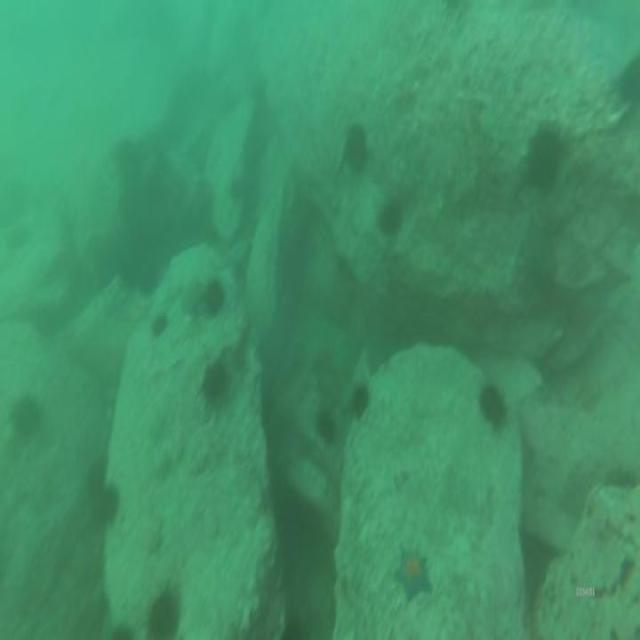echinus: (527, 130, 562, 190), (150, 592, 180, 638), (480, 387, 507, 425), (346, 128, 369, 171), (203, 362, 226, 404), (13, 402, 40, 436), (98, 485, 118, 522), (378, 202, 402, 231), (316, 409, 334, 444), (204, 282, 223, 312), (352, 387, 368, 417), (153, 314, 166, 335)
starfish: (519, 222, 551, 282), (396, 545, 431, 599)
